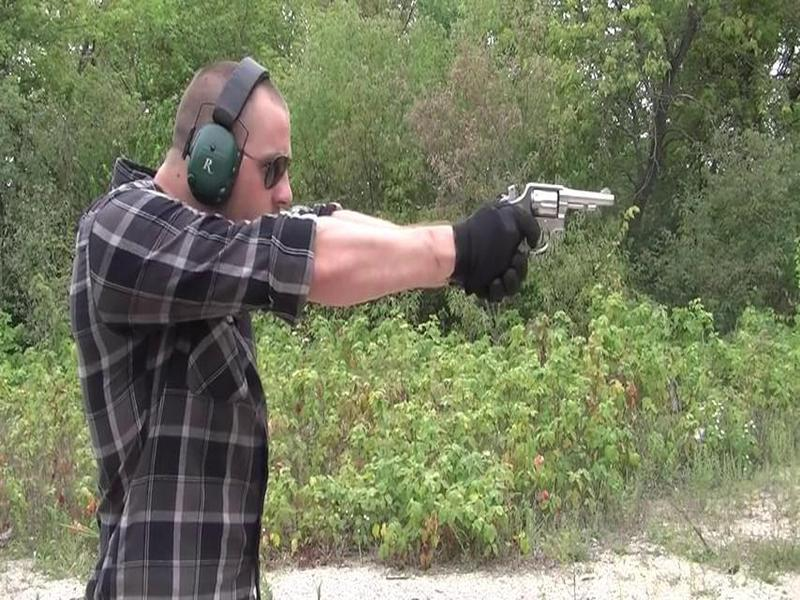Revolver: (468, 154, 627, 269)
